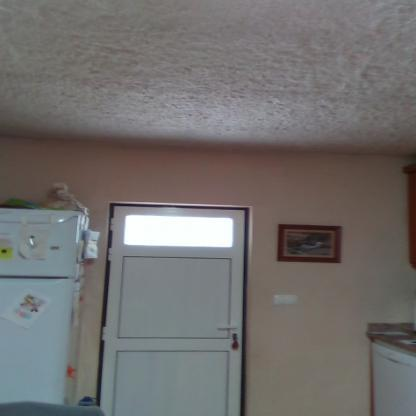door: (110, 206, 244, 416)
hinged: (106, 246, 114, 262), (100, 325, 107, 341), (108, 217, 115, 231)
lever: (217, 324, 239, 332)
